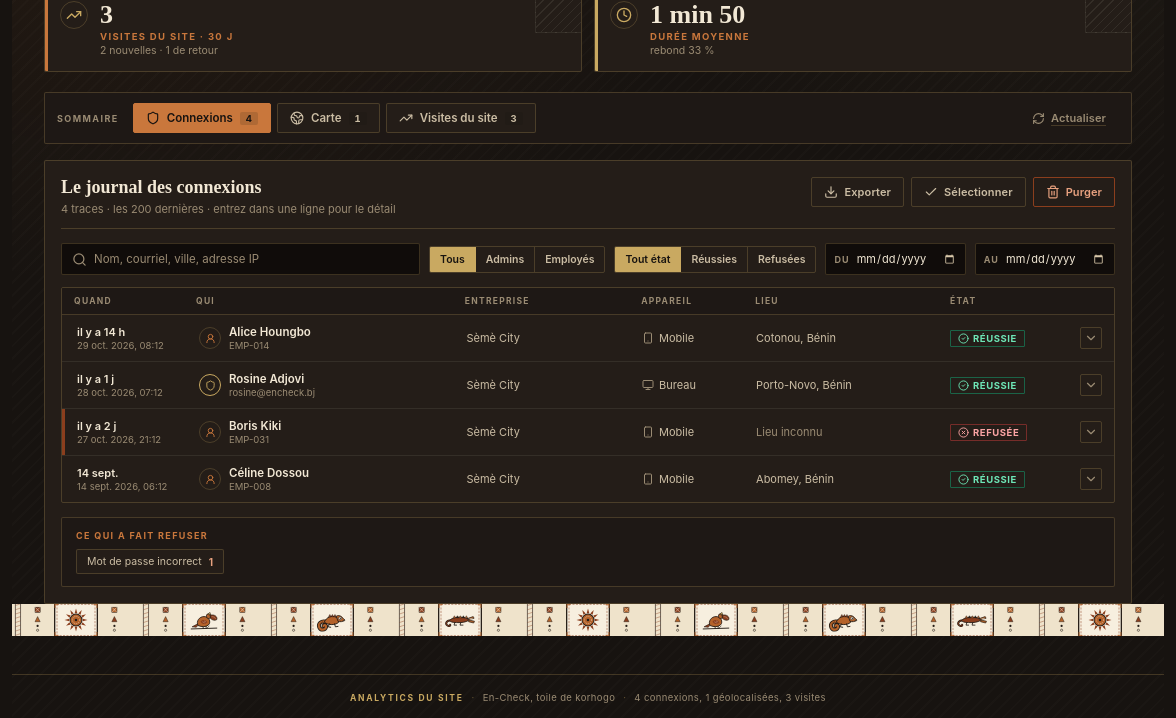
Test: 4. le journal des connexions › déplie une trace pour montrer le motif du refus
(page scrolled)
Expected: the row with class "an-tableau-ligne" that starts with "il y a 2 j" is shown, 62,409 -> 1114,455
What coordinates should you click on to do the following:
click the button with class "an-deplier" in the row of "il y a 2 j"
I would click on:
 (1091, 432)
Its box is 1080,421 -> 1102,443.
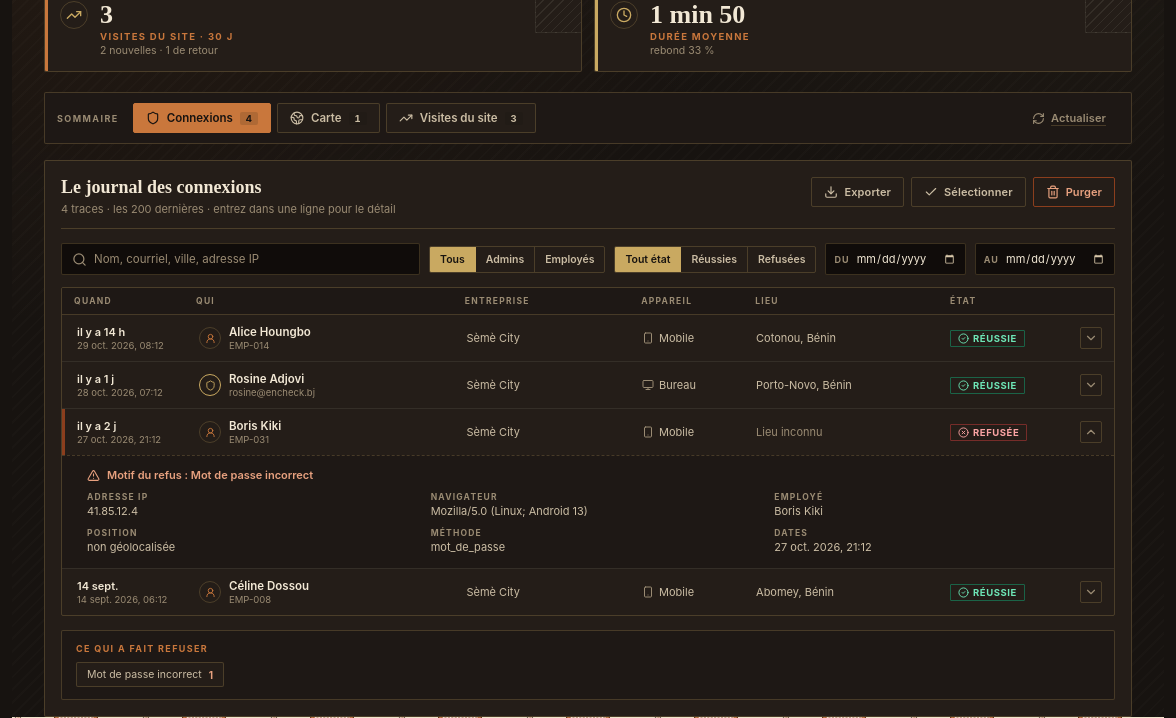
Now the element with class "an-detail" is shown, box 62,455 -> 1114,568
Now the element with class "an-detail" shows "Mot de passe incorrect", box 191,468 -> 313,482
Now the element with class "an-detail" shows "Adresse IP", box 87,492 -> 148,502
What coordinates should you click on to do the following:
click the 3rd button with class "an-deplier"
I would click on:
 (1091, 432)
Its box is 1080,421 -> 1102,443.
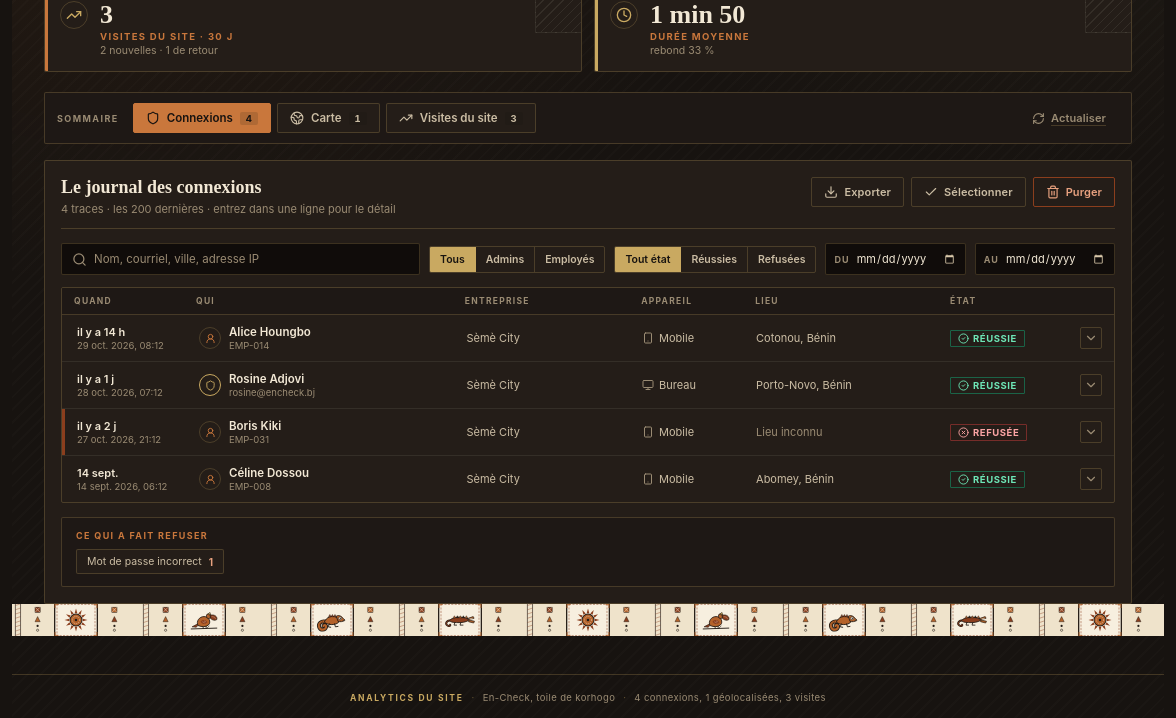
Now the element with class "an-detail" is gone
